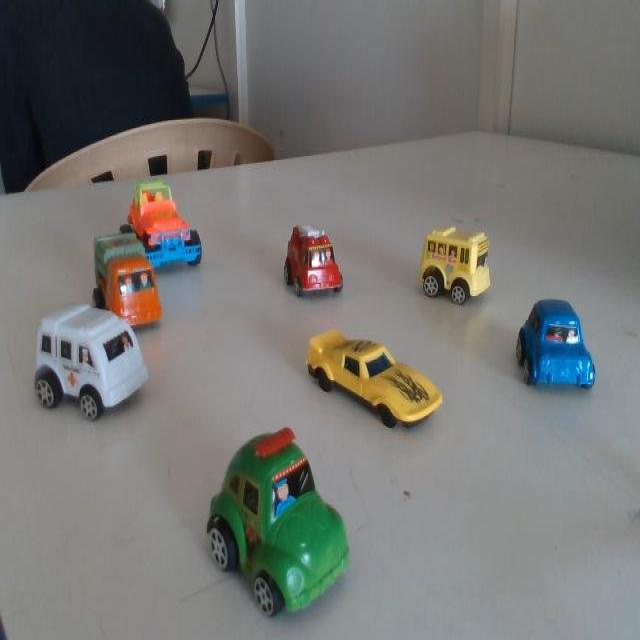car: (202, 428, 363, 621), (33, 282, 162, 442), (311, 321, 436, 436), (412, 222, 495, 318), (132, 173, 208, 271), (96, 222, 160, 334), (523, 298, 596, 394), (274, 212, 344, 312)
